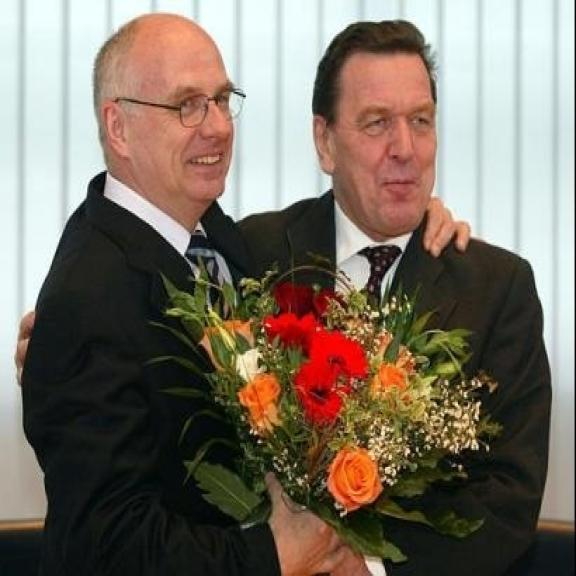face: (98, 24, 244, 208), (306, 40, 443, 235)
